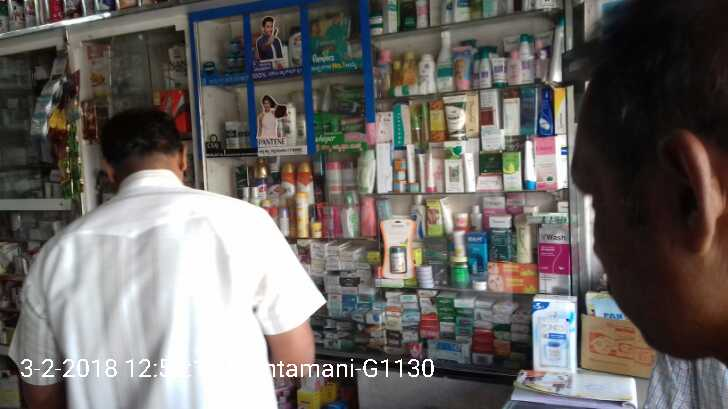beauty: (288, 24, 303, 65), (224, 121, 238, 146), (238, 122, 245, 146)
pharmacy: (308, 15, 353, 65), (315, 115, 341, 146)
